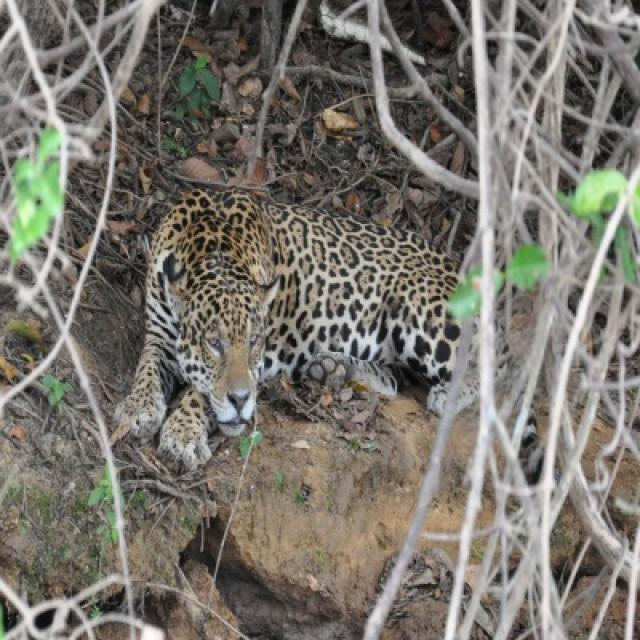Jaguar: (146, 187, 458, 454)
